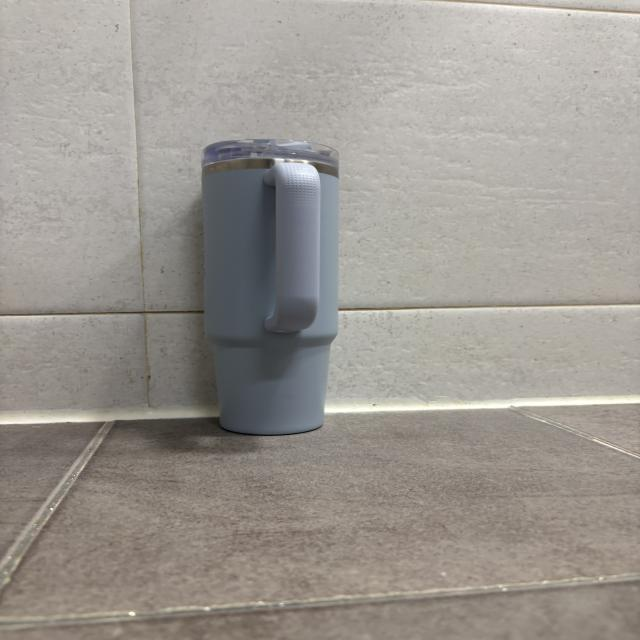waterbottle: (200, 138, 338, 435)
